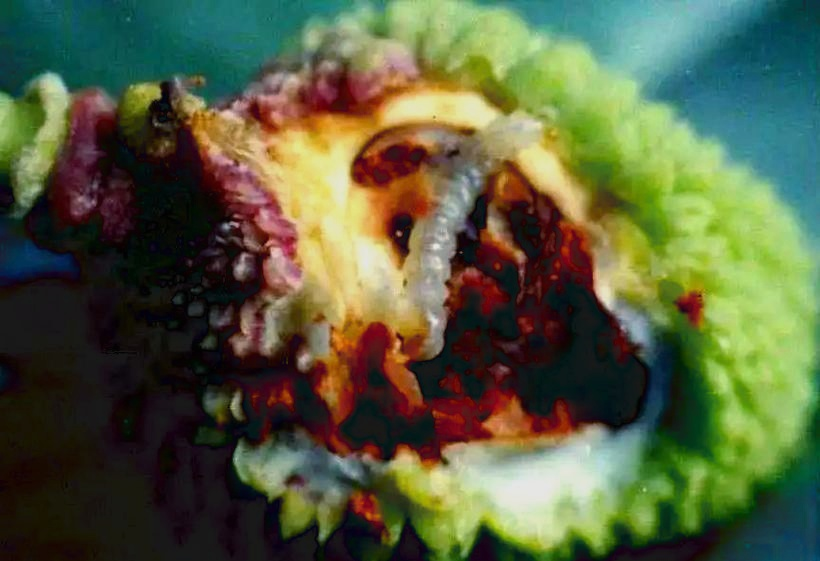Borer: (386, 116, 542, 354)
